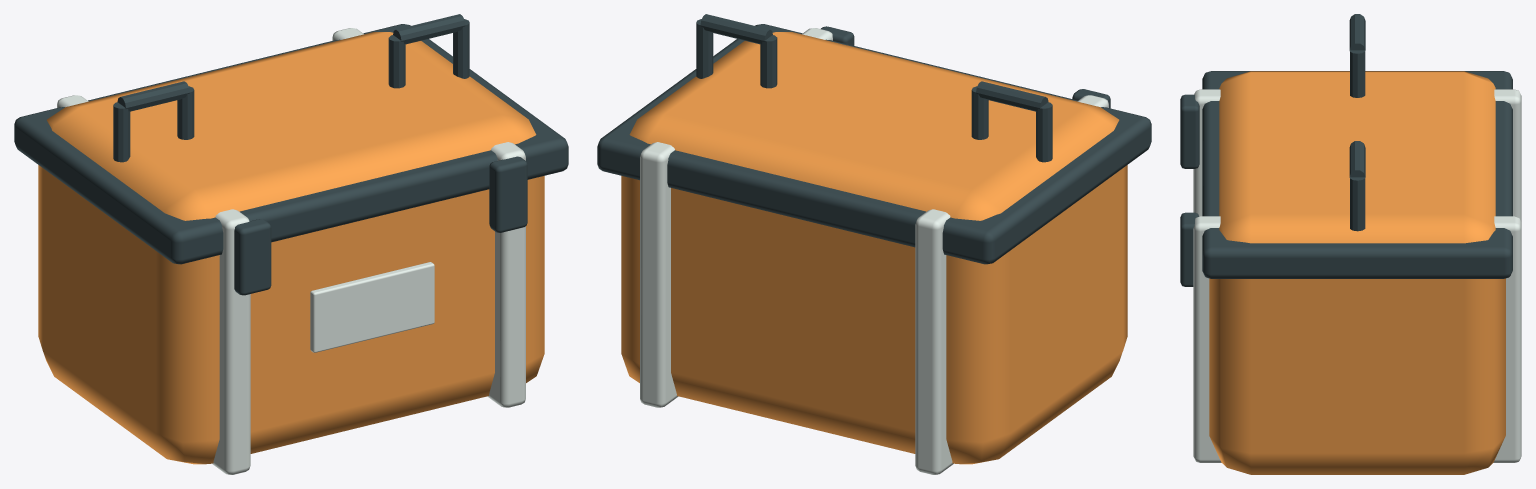
File: diving-and-underwater-salvage-sealed-salvage-pod-7080b5ff__28441.glb
The picture shows the model from 3 angles, left to right: view 1: azimuth 30°, elevation 25°; view 2: azimuth 150°, elevation 25°; view 3: azimuth 270°, elevation 25°; orthographic projection. The views are drawn at different scales.
Parts seen in each view (by area): view 1: sealed-salvage-pod-orange, sealed-salvage-pod-dark, sealed-salvage-pod-pale; view 2: sealed-salvage-pod-orange, sealed-salvage-pod-dark, sealed-salvage-pod-pale; view 3: sealed-salvage-pod-orange, sealed-salvage-pod-dark, sealed-salvage-pod-pale.
Boxes of the visible parts, left/top/right/bottom form: sealed-salvage-pod-orange: left=38, top=32, right=544, bottom=464; sealed-salvage-pod-dark: left=14, top=14, right=568, bottom=295; sealed-salvage-pod-pale: left=57, top=28, right=525, bottom=474; sealed-salvage-pod-orange: left=621, top=32, right=1127, bottom=464; sealed-salvage-pod-dark: left=597, top=14, right=1151, bottom=264; sealed-salvage-pod-pale: left=640, top=28, right=1108, bottom=474; sealed-salvage-pod-orange: left=1209, top=71, right=1505, bottom=474; sealed-salvage-pod-dark: left=1180, top=14, right=1512, bottom=286; sealed-salvage-pod-pale: left=1193, top=89, right=1521, bottom=462.
Size of the model in its own units: 1.24 by 0.9819 by 0.9775.
